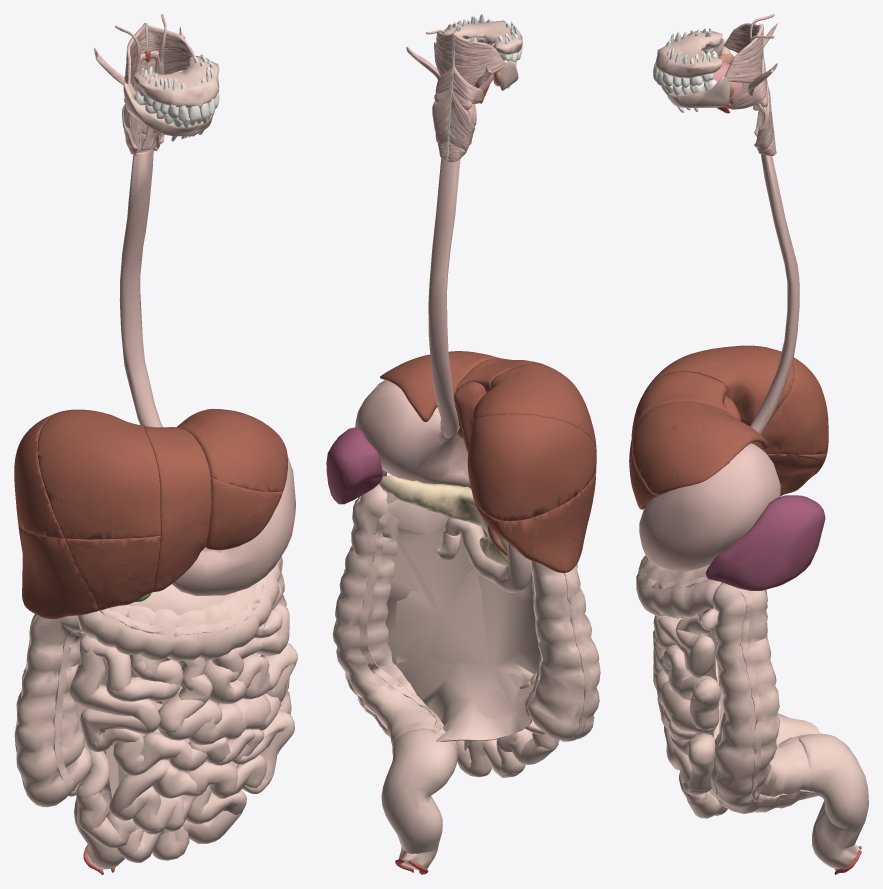
File: body-gut.glb
3 views of the same model, side by side, from view 1: azimuth 30°, elevation 25°; view 2: azimuth 150°, elevation 25°; view 3: azimuth 270°, elevation 25° (orthographic). The views are drawn at different scales.
Parts seen in each view (by area): view 1: FJ2824, FJ2566, FJ2572, FJ2820, FJ2818, FJ2563, FJ2564, FJ2821, FJ2409, FJ2819, FJ1858, FJ2621 (+41 smaller); view 2: FJ3398, FJ2567, FJ1858, FJ2566, FJ2564, FJ2571, FJ2563, FJ2824, FJ2409, FJ1895, FJ2561, FJ2818 (+14 smaller); view 3: FJ2567, FJ2564, FJ2818, FJ2561, FJ2571, FJ2824, FJ2563, FJ2823, FJ2572, FJ2820, FJ2570, FJ1252 (+19 smaller).
Part boxes in pixels (<box>): FJ2824: <box>37,409,160,539</box>; FJ2566: <box>15,615,91,807</box>; FJ2572: <box>78,557,281,661</box>; FJ2820: <box>143,426,211,592</box>; FJ2818: <box>176,408,287,491</box>; FJ2563: <box>119,149,162,427</box>; FJ2564: <box>172,456,295,595</box>; FJ2821: <box>64,535,160,610</box>; FJ2409: <box>18,522,95,619</box>; FJ2819: <box>205,477,282,550</box>; FJ1858: <box>14,411,64,538</box>; FJ2621: <box>69,645,160,733</box>; FJ3398: <box>385,493,540,741</box>; FJ2567: <box>332,484,458,760</box>; FJ1858: <box>472,414,596,521</box>; FJ2566: <box>527,561,600,741</box>; FJ2564: <box>355,379,471,488</box>; FJ2571: <box>381,728,457,870</box>; FJ2563: <box>428,158,460,438</box>; FJ2824: <box>472,362,596,451</box>; FJ2409: <box>477,467,596,572</box>; FJ1895: <box>379,475,508,566</box>; FJ2561: <box>326,427,386,504</box>; FJ2818: <box>380,351,498,421</box>; FJ2567: <box>709,582,811,813</box>; FJ2564: <box>639,443,780,571</box>; FJ2818: <box>632,402,768,495</box>; FJ2561: <box>705,495,825,590</box>; FJ2571: <box>795,733,868,869</box>; FJ2824: <box>643,345,793,425</box>; FJ2563: <box>750,154,799,434</box>; FJ2823: <box>760,385,828,454</box>; FJ2572: <box>636,556,722,618</box>; FJ2820: <box>631,372,729,438</box>; FJ2570: <box>638,555,815,803</box>; FJ1252: <box>655,31,722,78</box>.
Bounding box in the file's own units: 0.2442 × 0.7467 × 0.1911.
